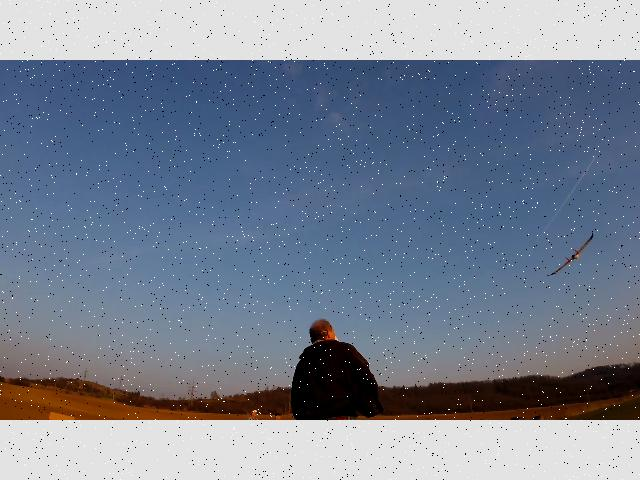Anti-Drone: (544, 229, 600, 277)
